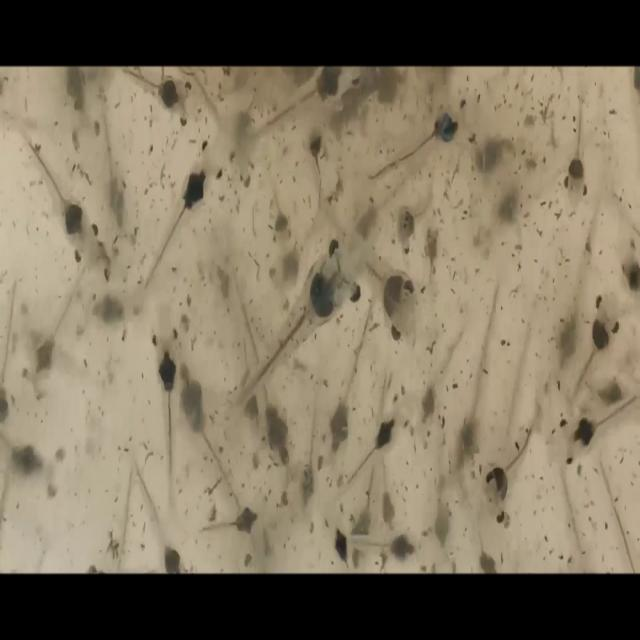shrimp3: (220, 232, 375, 439), (134, 130, 229, 301), (354, 83, 483, 196), (316, 294, 376, 494), (19, 124, 101, 270), (14, 270, 88, 421), (141, 299, 186, 523), (340, 384, 417, 488), (566, 287, 624, 416), (559, 87, 594, 220)
